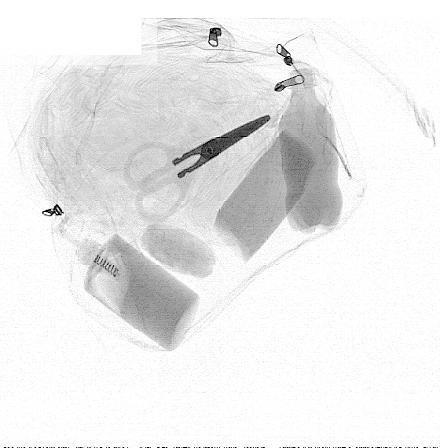Scissors: (125, 114, 272, 221)
